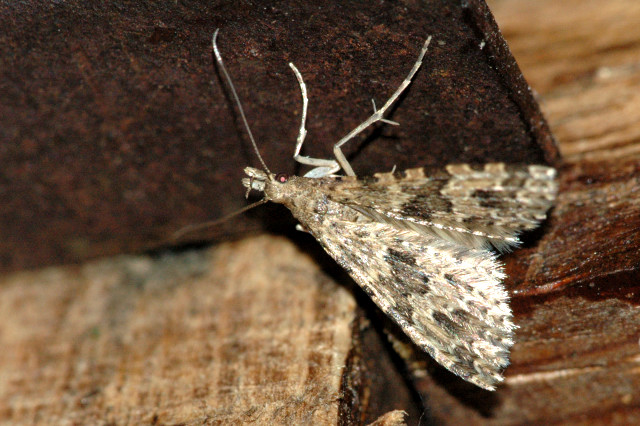Alucitidae: (163, 24, 568, 396)
moth: (161, 22, 566, 394)
